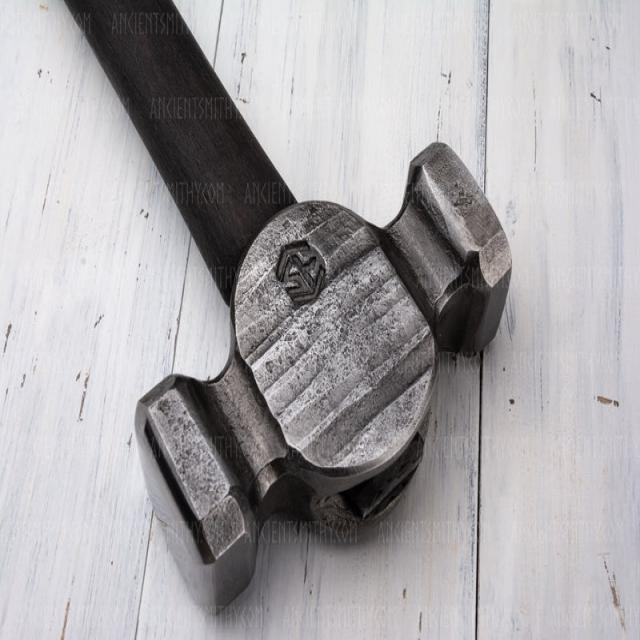hammer: (55, 0, 519, 615)
